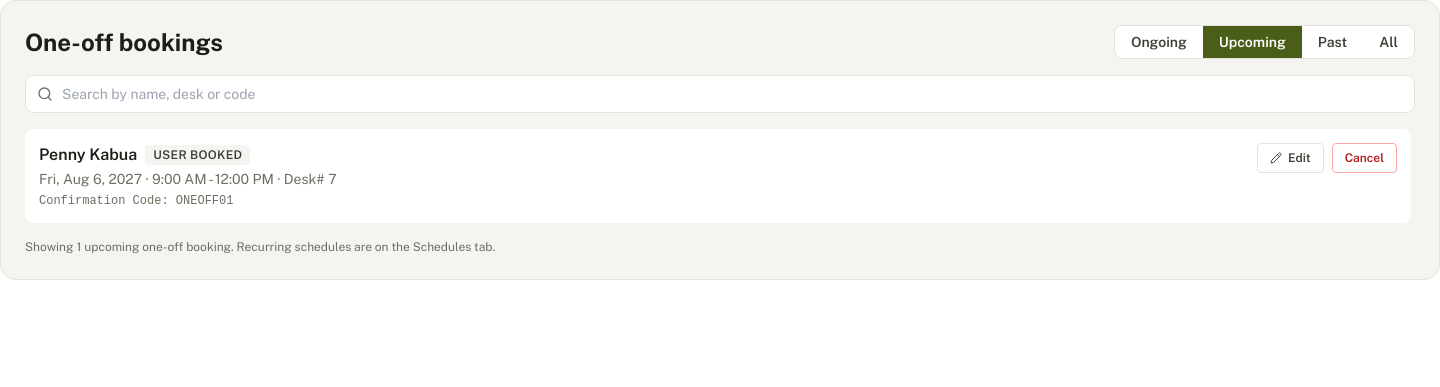
Test case: searching never turns up a schedule day
Expected: the text "Penny Kabua" is shown, [39, 143, 137, 167]
Type "Timoteo" into the field with placeholder "Search by name, desk or code" at {"x": 720, "y": 94}, box [25, 75, 1415, 113]
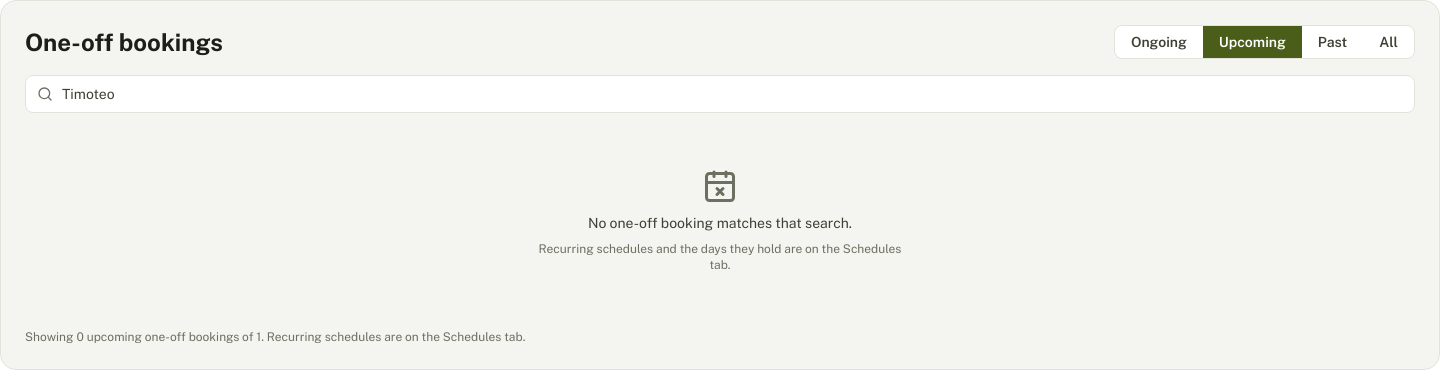
Result: the text "No one-off booking matches that search." is shown at [588, 213, 852, 233]
